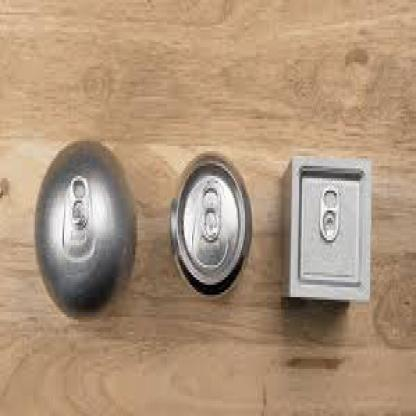METAL: (34, 141, 136, 317), (277, 154, 370, 300), (170, 151, 252, 295)
